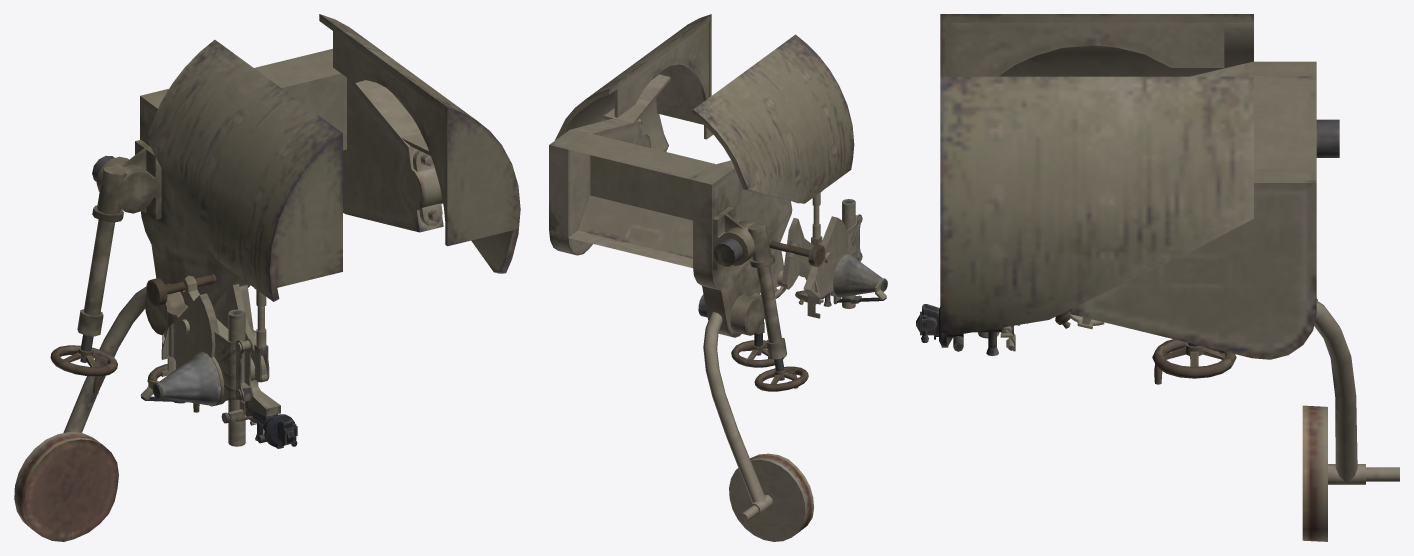
The model's file is Turret_01.glb.
3 renders of one model, left to right at view 1: azimuth 30°, elevation 25°; view 2: azimuth 150°, elevation 25°; view 3: azimuth 270°, elevation 25°, orthographic. The views are drawn at different scales.
Visible parts, largest first — view 1: set_0_group_0; view 2: set_0_group_0; view 3: set_0_group_0.
Boxes of the visible parts, <box> form: set_0_group_0: <box>14,14,520,541</box>; set_0_group_0: <box>549,14,887,541</box>; set_0_group_0: <box>916,14,1399,541</box>.
Size of the model in its own units: 1.17 by 1.55 by 1.14.
Materials: 1 (1 with a texture image).
